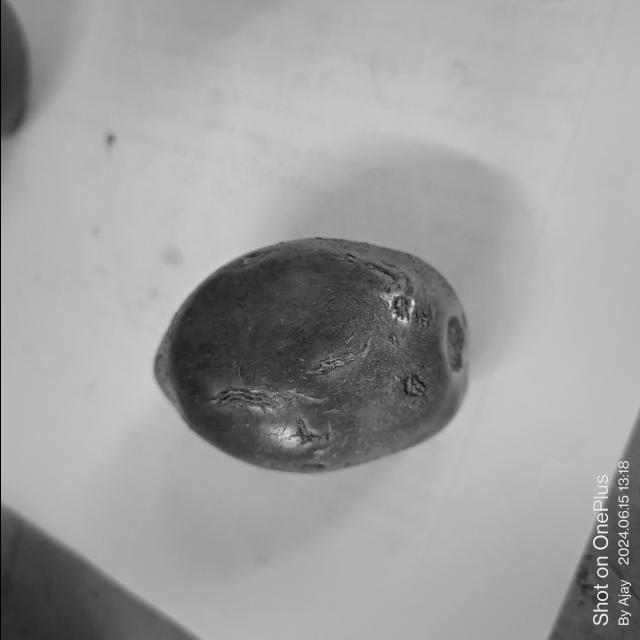Bacterial_Spot: (387, 291, 439, 327), (208, 384, 264, 408), (310, 356, 360, 382), (402, 372, 428, 399), (290, 419, 312, 449)
